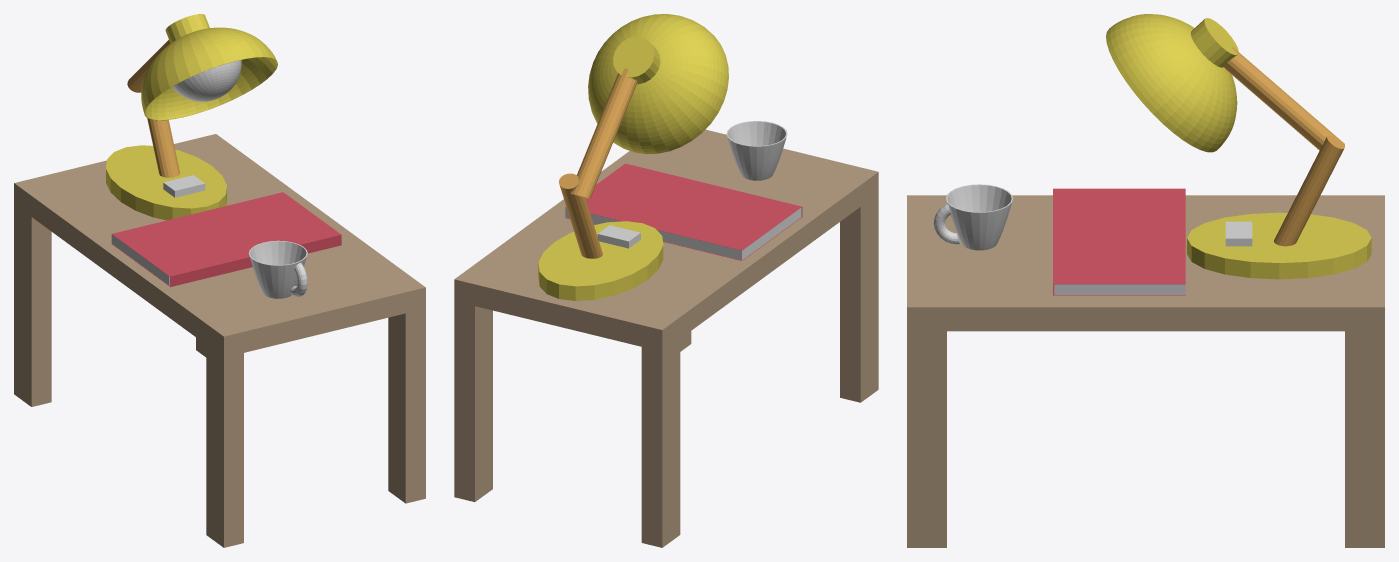
File: tablemodel.glb
The picture shows the model from 3 angles, left to right: view 1: azimuth 30°, elevation 25°; view 2: azimuth 150°, elevation 25°; view 3: azimuth 270°, elevation 25°; orthographic projection. The views are drawn at different scales.
Visible parts, largest first — view 1: Mesh_Mesh_head_geo.001_lambert2SG.001; view 2: Mesh_Mesh_head_geo.001_lambert2SG.001; view 3: Mesh_Mesh_head_geo.001_lambert2SG.001.
Part boxes in pixels (box(x1,y1,x2,y2)): Mesh_Mesh_head_geo.001_lambert2SG.001: box(14, 14, 425, 547); Mesh_Mesh_head_geo.001_lambert2SG.001: box(454, 14, 878, 547); Mesh_Mesh_head_geo.001_lambert2SG.001: box(907, 14, 1384, 547).
Bounding box in the file's own units: 20 × 39.09 × 36.
